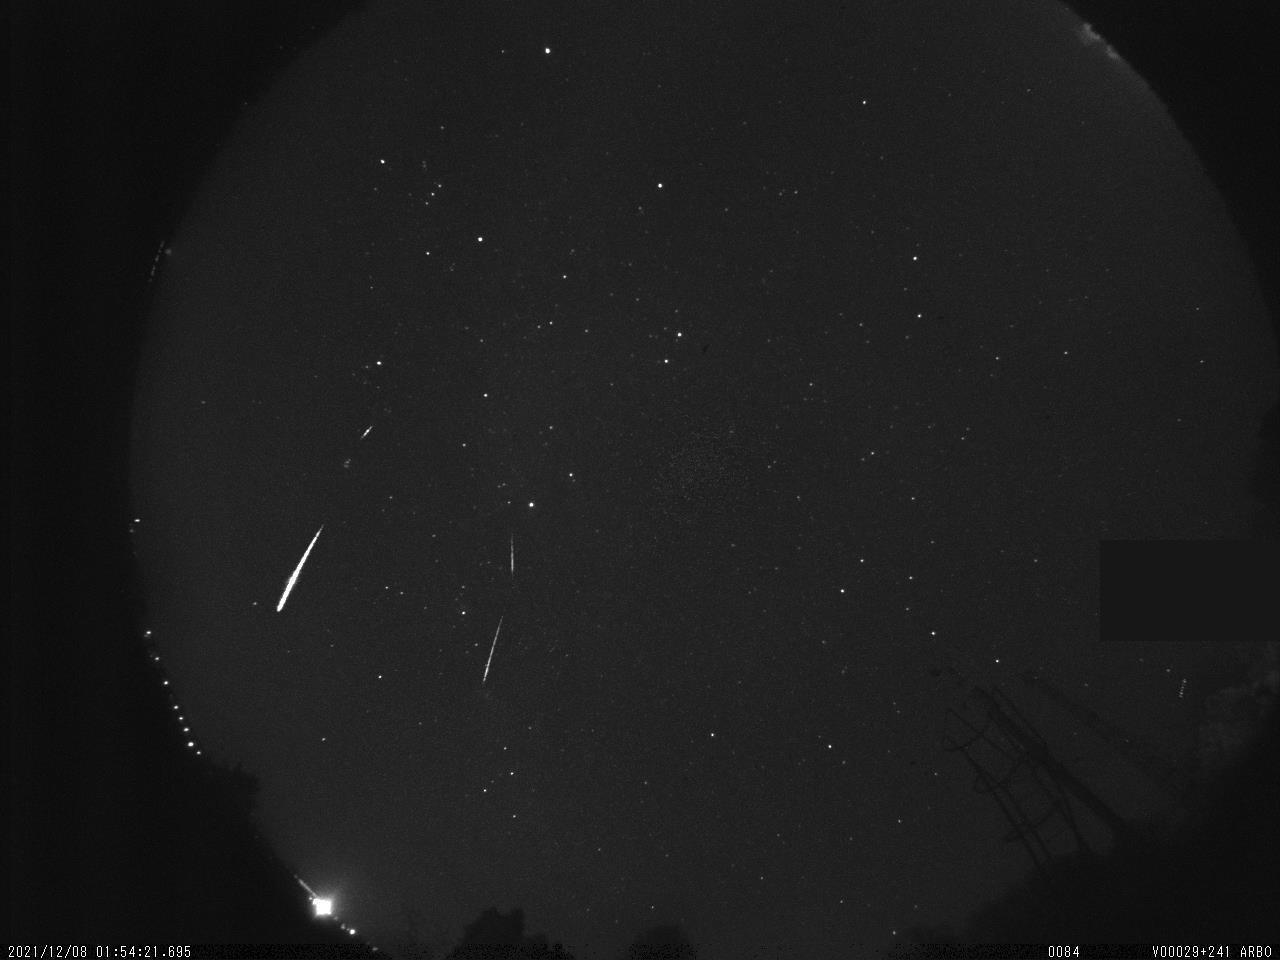Meteor: (273, 521, 325, 613), (476, 612, 510, 690), (504, 528, 522, 584), (356, 419, 378, 446)
